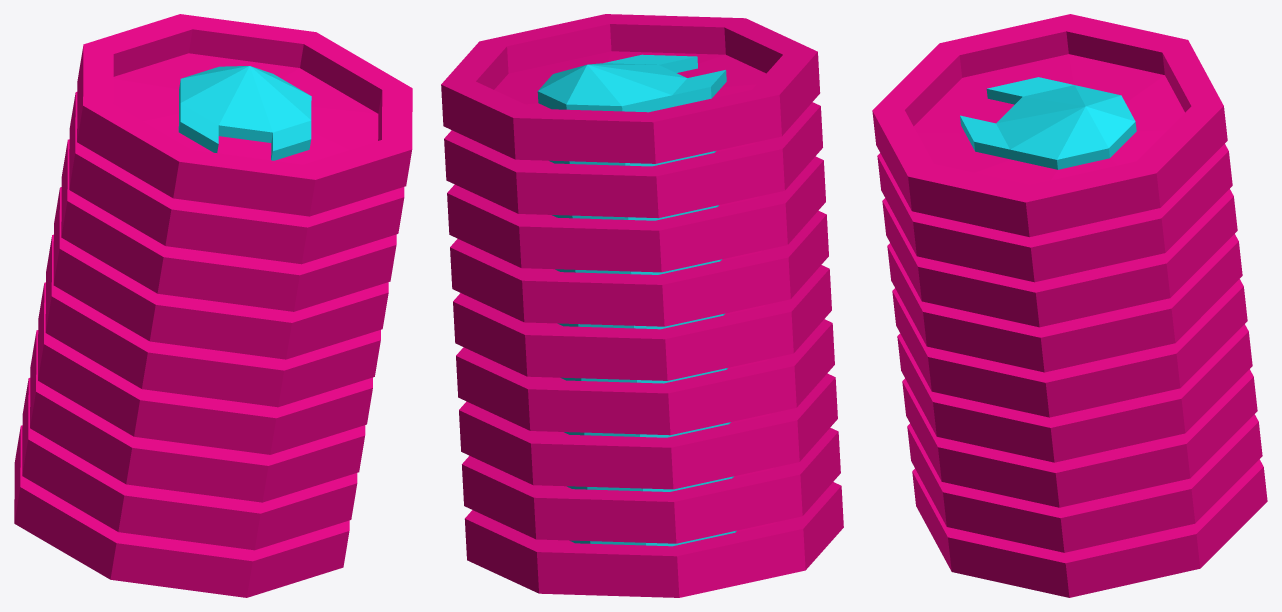
File: meelk_tokentower2.glb
3 views of the same model, side by side, from view 1: azimuth 30°, elevation 25°; view 2: azimuth 150°, elevation 25°; view 3: azimuth 270°, elevation 25° (orthographic). The views are drawn at different scales.
Parts seen in each view (by area): view 1: Cylinder.022; view 2: Cylinder.022; view 3: Cylinder.022.
Boxes of the visible parts, x1,y1,x2,y2 form: Cylinder.022: (14, 14, 412, 597); Cylinder.022: (441, 14, 843, 597); Cylinder.022: (872, 14, 1267, 597).
Size of the model in its own units: 0.4903 by 0.6224 by 0.4802.
